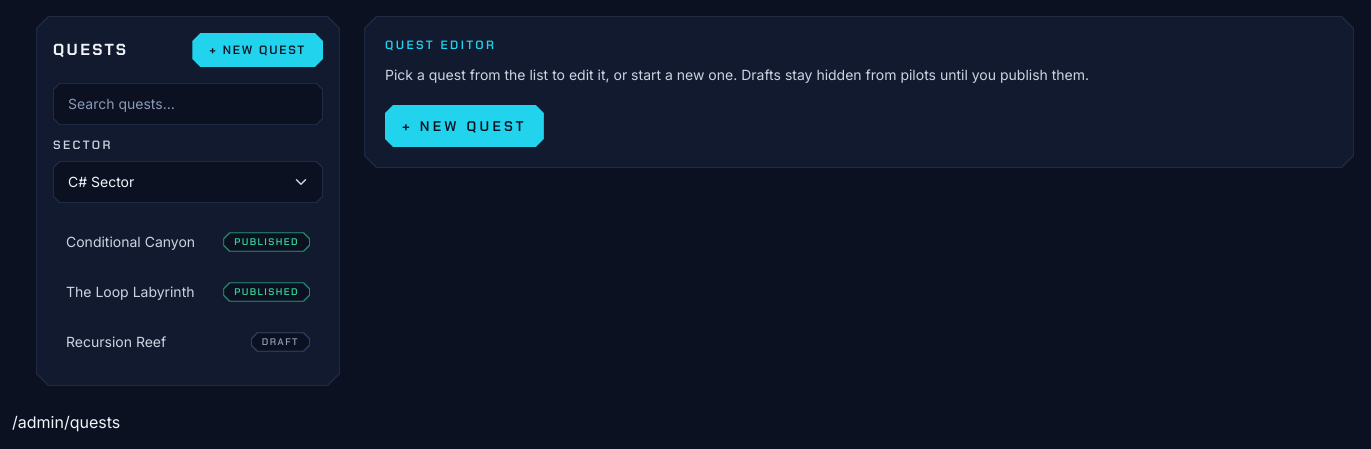
QuestEditorPage › lists the sector’s quests, drafts included
Expected: the links read "Conditional CanyonPublished", "The Loop LabyrinthPublished", "Recursion ReefDraft", in this order, x1=53 y1=219 x2=323 y2=265; x1=53 y1=269 x2=323 y2=315; x1=53 y1=319 x2=323 y2=365
Step 1. Click the button labelled "C# Sector" → coordinates (188, 182), box x1=53 y1=161 x2=323 y2=203
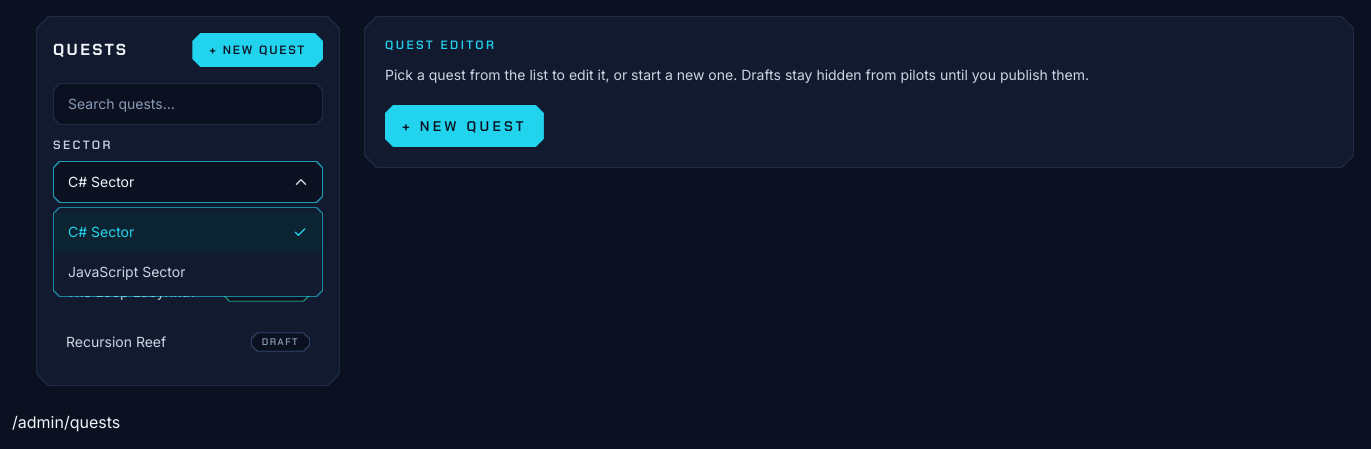
Step 2. Click the option "JavaScript Sector" → coordinates (127, 272), box x1=68 y1=263 x2=185 y2=280
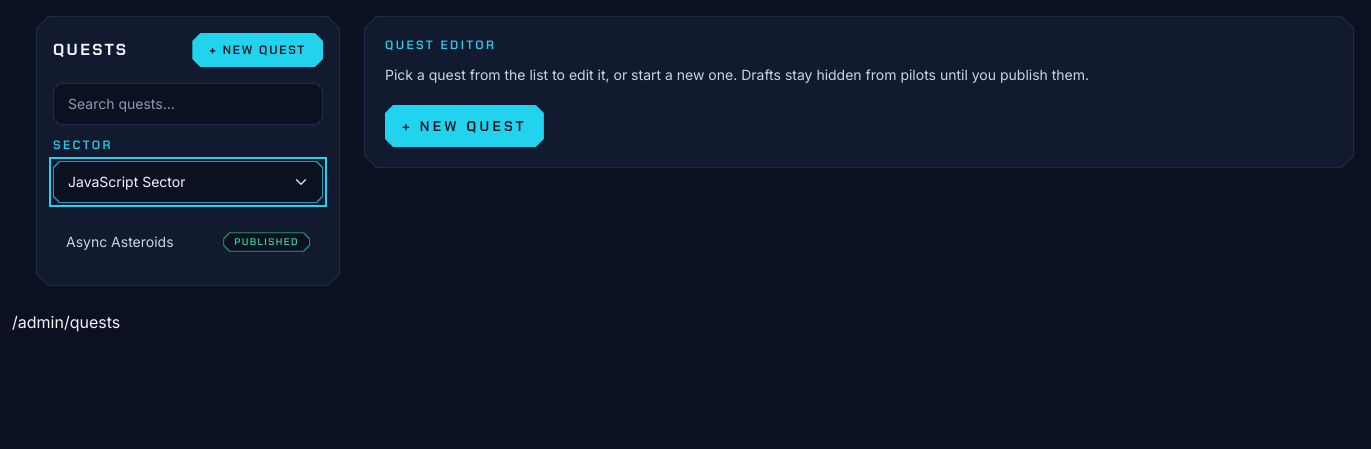
Expected: the text "Async Asteroids" is shown, x1=66 y1=232 x2=174 y2=252
Step 3. Type "zzz" into the search field labelled "Search quests" → coordinates (188, 104), box x1=54 y1=84 x2=322 y2=124
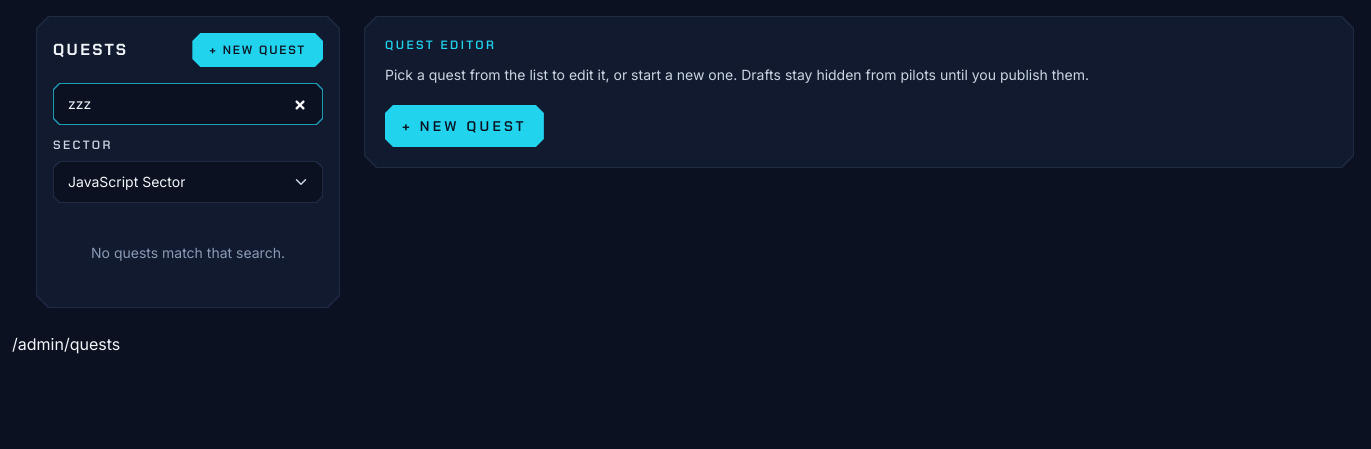
Expected: the list item "No quests match that search." is shown, x1=91 y1=244 x2=285 y2=261
